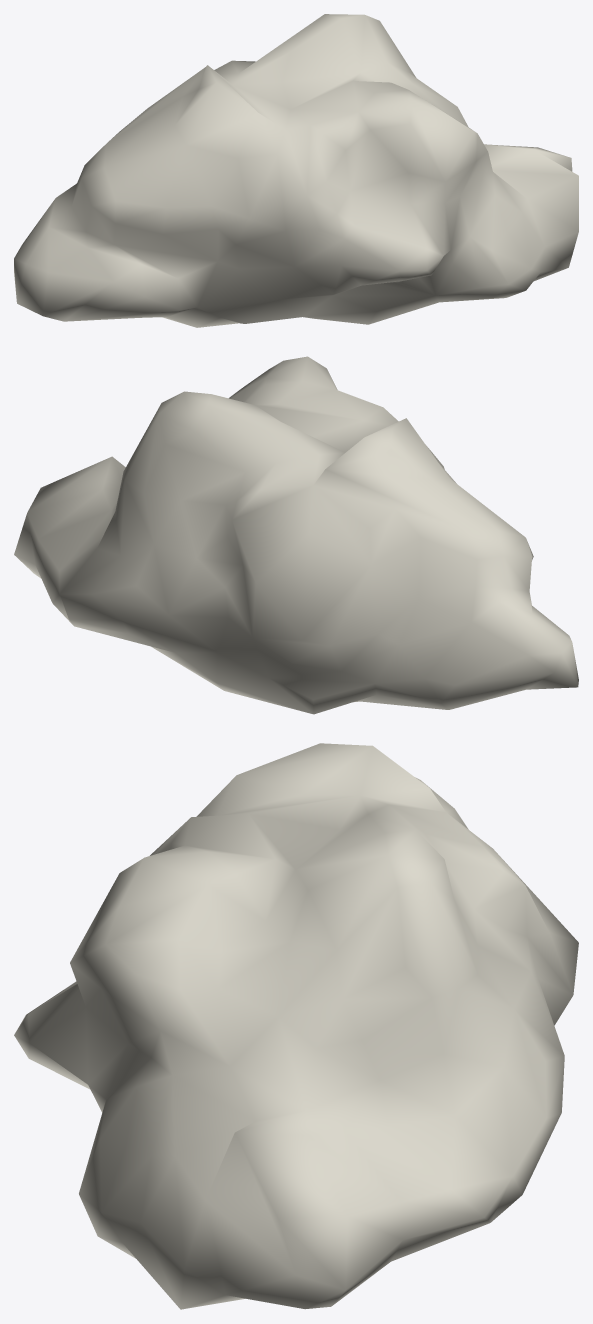
Rendered from rpgpp_ag_cloud_01.fbx.
3 renders of one model, top to bottom at view 1: azimuth 30°, elevation 25°; view 2: azimuth 150°, elevation 25°; view 3: azimuth 270°, elevation 25°, orthographic. The views are drawn at different scales.
Parts seen in each view (by area): view 1: rpgpp_ag_cloud_01; view 2: rpgpp_ag_cloud_01; view 3: rpgpp_ag_cloud_01.
Part boxes in pixels (<box>): rpgpp_ag_cloud_01: <box>14,14,578,327</box>; rpgpp_ag_cloud_01: <box>14,356,578,714</box>; rpgpp_ag_cloud_01: <box>14,743,578,1309</box>.
Bounding box in the file's own units: 43.19 × 20.09 × 26.19.
